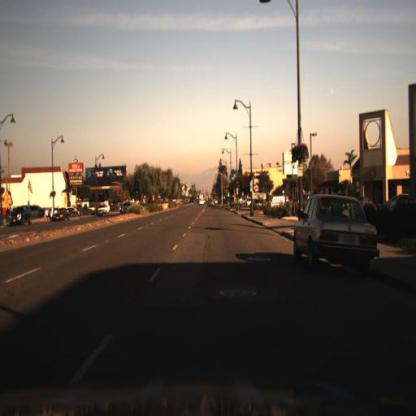car: (290, 191, 383, 272), (11, 207, 34, 226), (97, 197, 114, 219), (50, 208, 73, 224)
